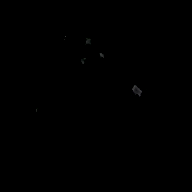v: (79, 35, 104, 63)
